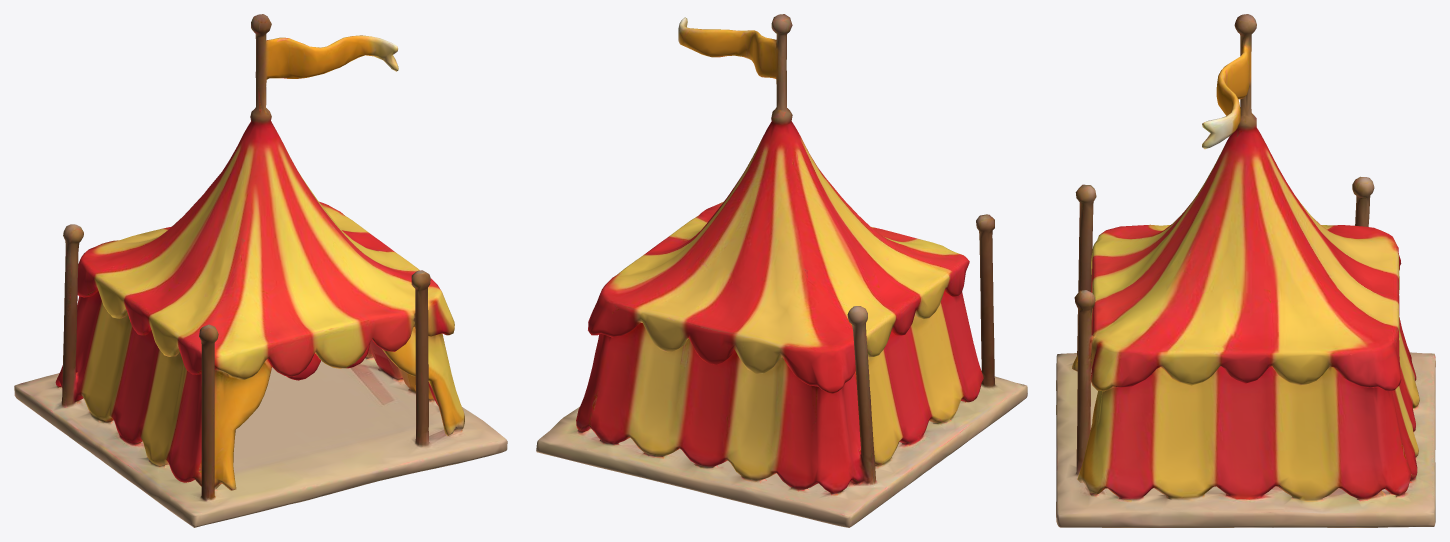
Rendered from special1.glb.
3 views of the same model, side by side, from view 1: azimuth 30°, elevation 25°; view 2: azimuth 150°, elevation 25°; view 3: azimuth 270°, elevation 25° (orthographic). The views are drawn at different scales.
Visible parts, largest first — view 1: Mesh_0; view 2: Mesh_0; view 3: Mesh_0.
Part boxes in pixels (left/top/right/bottom): Mesh_0: left=14, top=14, right=507, bottom=527; Mesh_0: left=536, top=14, right=1027, bottom=527; Mesh_0: left=1056, top=14, right=1435, bottom=527.
Size of the model in its own units: 1.53 by 1.91 by 1.51.
Materials: 1 (1 with a texture image).
